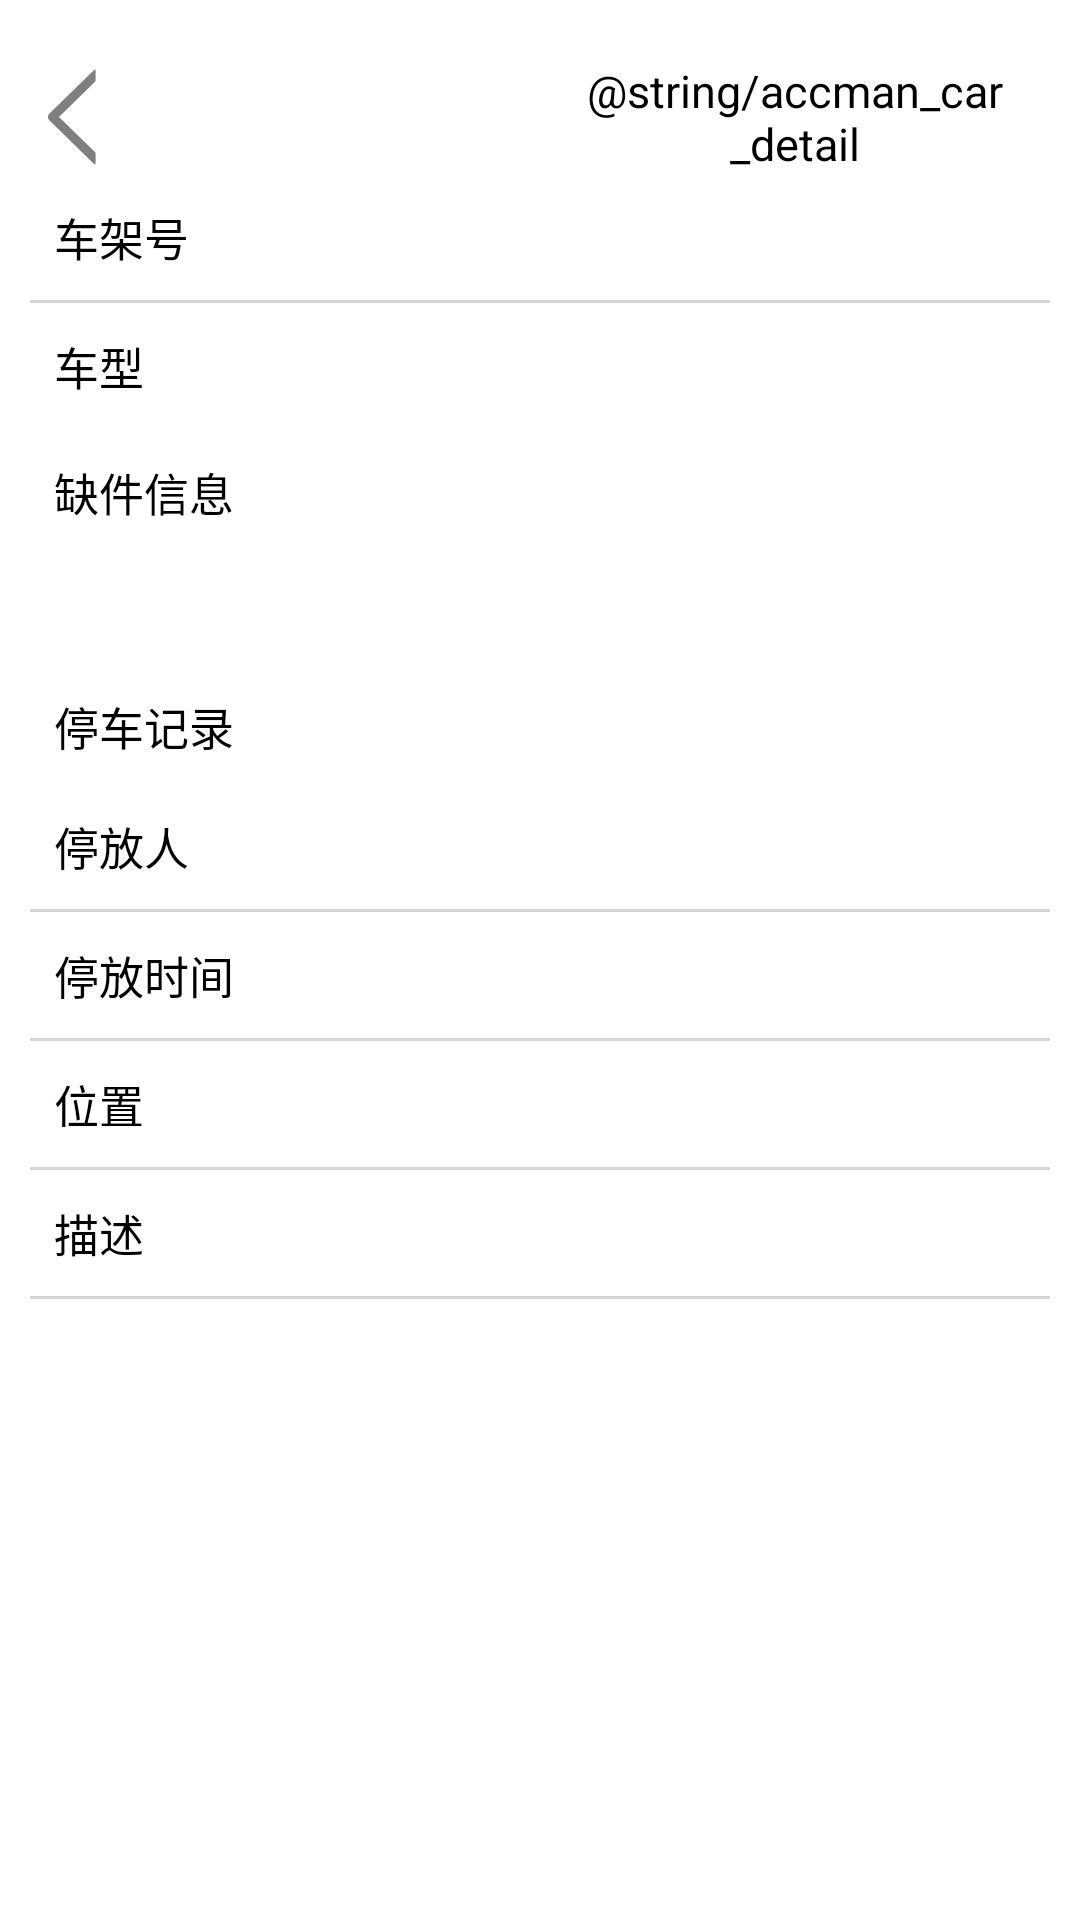

Icons on this 1080×1920 Android screen, each with the point to tap as (x,y):
back: (72,117)
